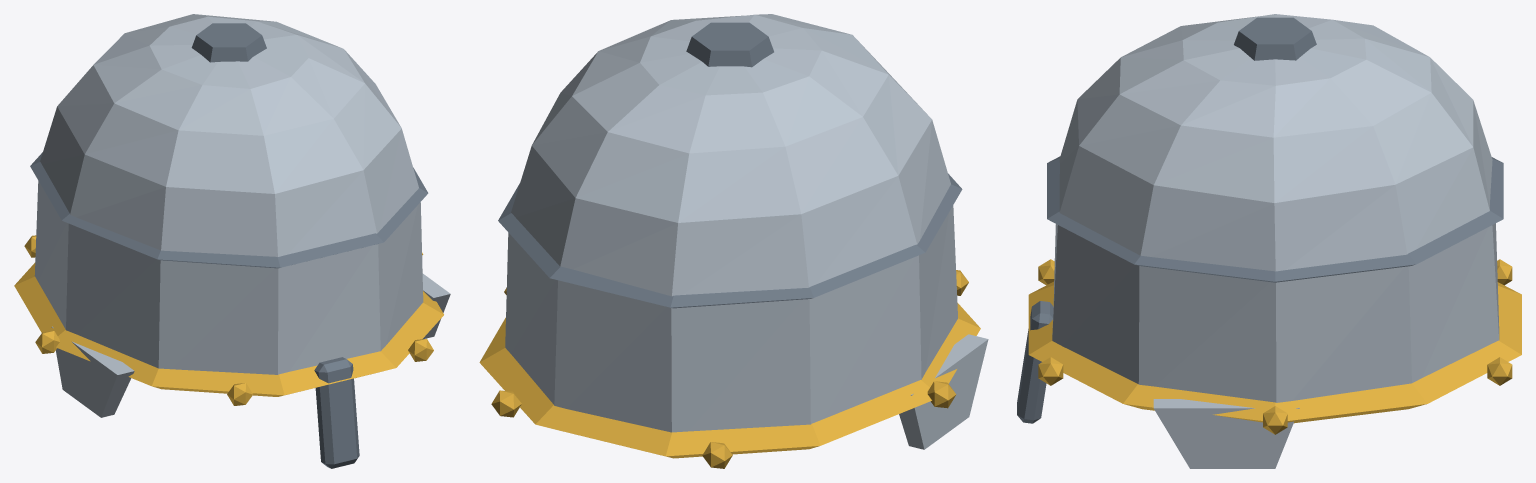
Rendered from Item_IronHelmet.glb.
3 views of the same model, side by side, from view 1: azimuth 30°, elevation 25°; view 2: azimuth 150°, elevation 25°; view 3: azimuth 270°, elevation 25° (orthographic). The views are drawn at different scales.
Parts seen in each view (by area): view 1: Item_IronHelmet; view 2: Item_IronHelmet; view 3: Item_IronHelmet.
Boxes of the visible parts, box(x1,y1,x2,y2) form: Item_IronHelmet: box(14, 14, 450, 468); Item_IronHelmet: box(479, 14, 988, 468); Item_IronHelmet: box(1017, 14, 1521, 468).
Bounding box in the file's own units: 0.4004 × 0.3501 × 0.4144.
